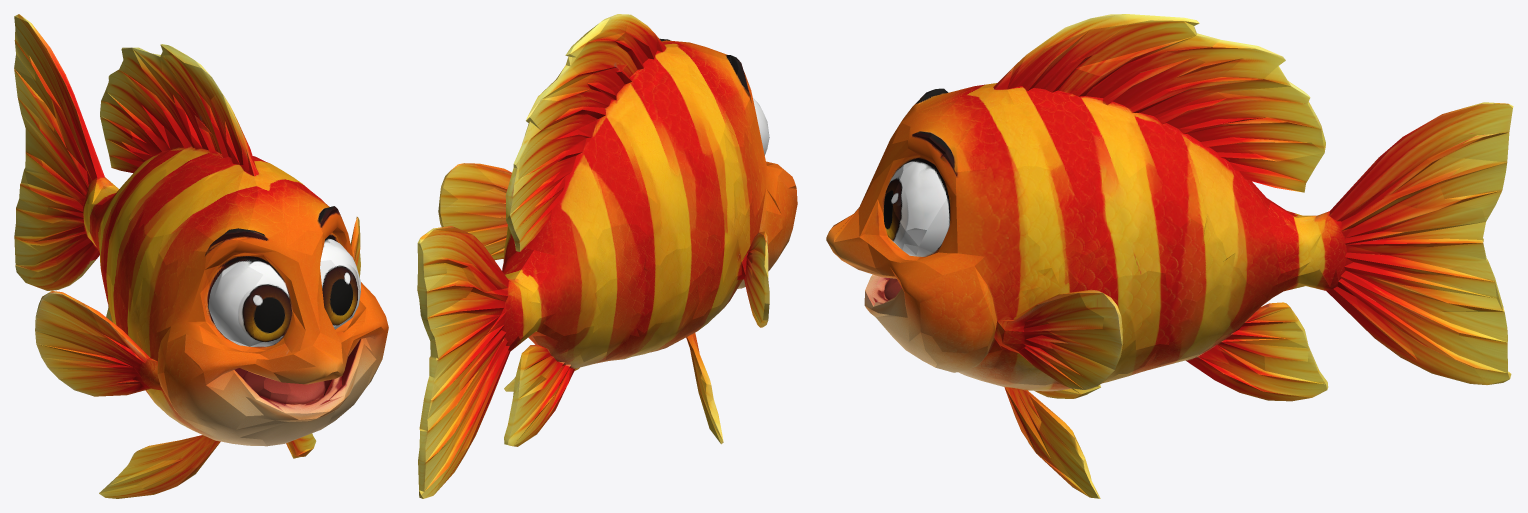
3 renders of one model, left to right at view 1: azimuth 30°, elevation 25°; view 2: azimuth 150°, elevation 25°; view 3: azimuth 270°, elevation 25°, orthographic. The views are drawn at different scales.
Parts seen in each view (by area): view 1: Mesh_0; view 2: Mesh_0; view 3: Mesh_0.
Boxes of the visible parts, x1,y1,x2,y2 form: Mesh_0: [14, 14, 388, 498]; Mesh_0: [417, 14, 797, 498]; Mesh_0: [826, 14, 1513, 498].
Size of the model in its own units: 1.12 by 1.32 by 1.9.
Materials: 1 (1 with a texture image).
